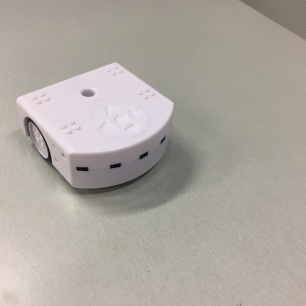thymio: (15, 60, 183, 195)
